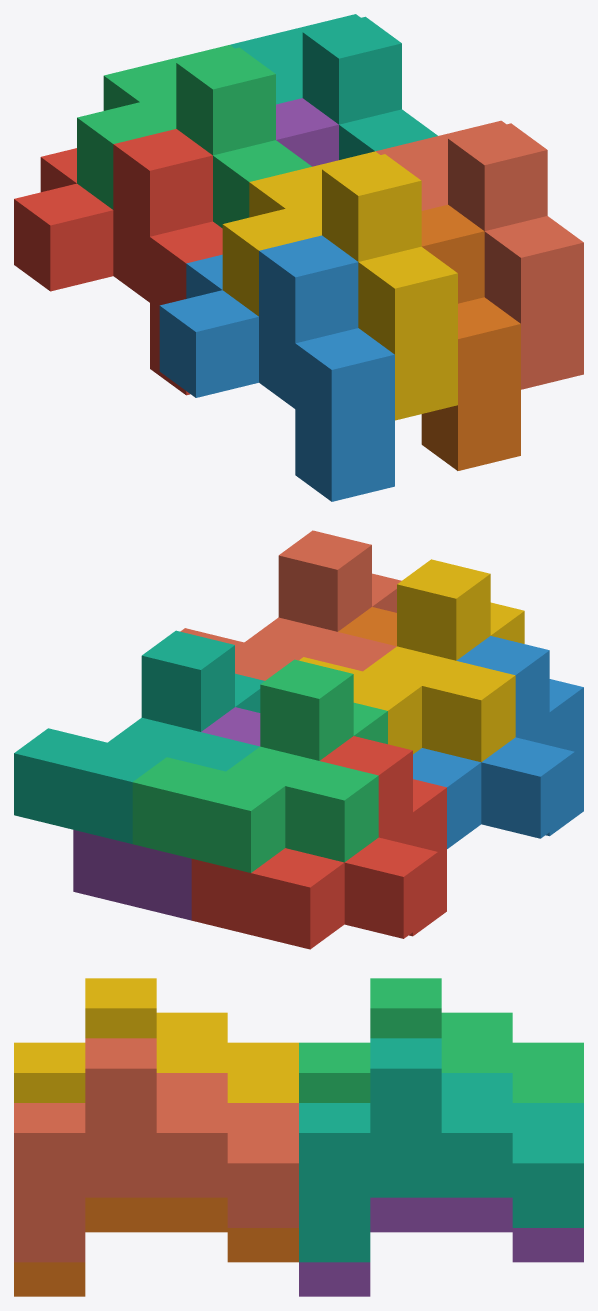
Rendered from tiling.obj.
3 renders of one model, top to bottom at view 1: azimuth 30°, elevation 25°; view 2: azimuth 150°, elevation 25°; view 3: azimuth 270°, elevation 25°, orthographic. The views are drawn at different scales.
Parts seen in each view (by area): view 1: copy_1_domain_2, copy_1_domain_4, copy_1_domain_1, copy_1_domain_8, copy_1_domain_3, copy_1_domain_6, copy_1_domain_7, copy_1_domain_5; view 2: copy_1_domain_3, copy_1_domain_1, copy_1_domain_7, copy_1_domain_4, copy_1_domain_2, copy_1_domain_8, copy_1_domain_5, copy_1_domain_6; view 3: copy_1_domain_7, copy_1_domain_8, copy_1_domain_3, copy_1_domain_4, copy_1_domain_5, copy_1_domain_6.
Part boxes in pixels (x1,y1,x2,y2): copy_1_domain_2: [159, 235, 394, 501]; copy_1_domain_4: [222, 151, 457, 420]; copy_1_domain_1: [14, 129, 222, 395]; copy_1_domain_8: [376, 120, 583, 389]; copy_1_domain_3: [77, 45, 311, 228]; copy_1_domain_6: [421, 204, 520, 470]; copy_1_domain_7: [230, 14, 437, 159]; copy_1_domain_5: [276, 98, 338, 166]; copy_1_domain_3: [132, 659, 387, 872]; copy_1_domain_1: [191, 736, 446, 949]; copy_1_domain_7: [14, 630, 264, 843]; copy_1_domain_4: [299, 559, 524, 762]; copy_1_domain_2: [413, 636, 583, 848]; copy_1_domain_8: [180, 530, 401, 680]; copy_1_domain_5: [73, 707, 260, 920]; copy_1_domain_6: [338, 607, 396, 646]; copy_1_domain_7: [299, 1038, 583, 1262]; copy_1_domain_8: [14, 1038, 298, 1262]; copy_1_domain_3: [299, 978, 583, 1102]; copy_1_domain_4: [14, 978, 298, 1102]; copy_1_domain_5: [299, 1197, 583, 1296]; copy_1_domain_6: [14, 1197, 298, 1296].
Bounding box in the file's own units: 6 × 4 × 8.
